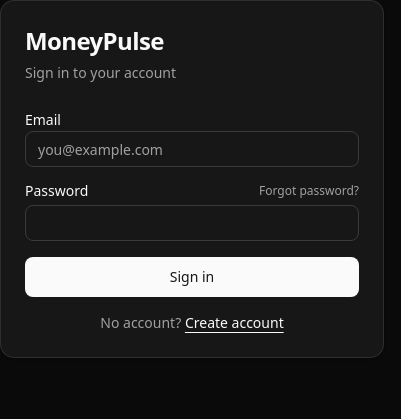
Test: LoginForm › shows validation error when email is empty
The width and height of the screenshot is (401, 419).
Step 1. Click the button "Sign in" → point(192, 277), box [25,257,359,297]
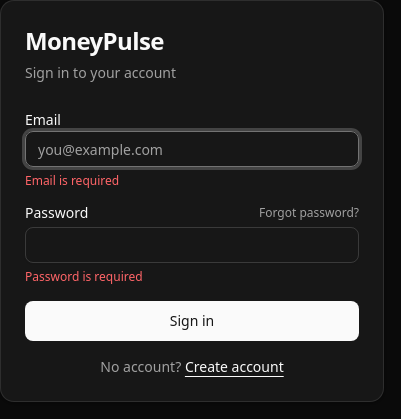
Result: the text "Email is required" is shown at [25,172,119,189]
